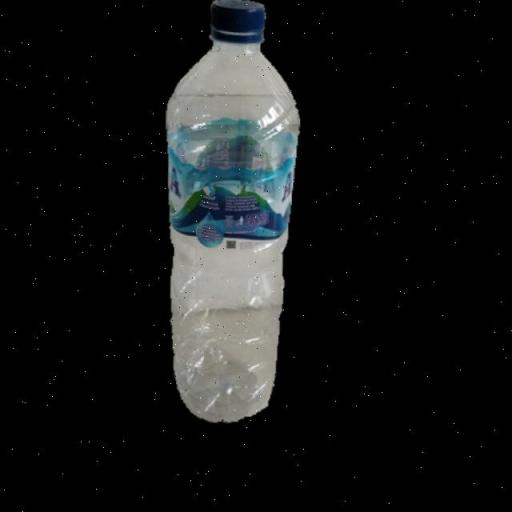plastic: (142, 0, 318, 433)
